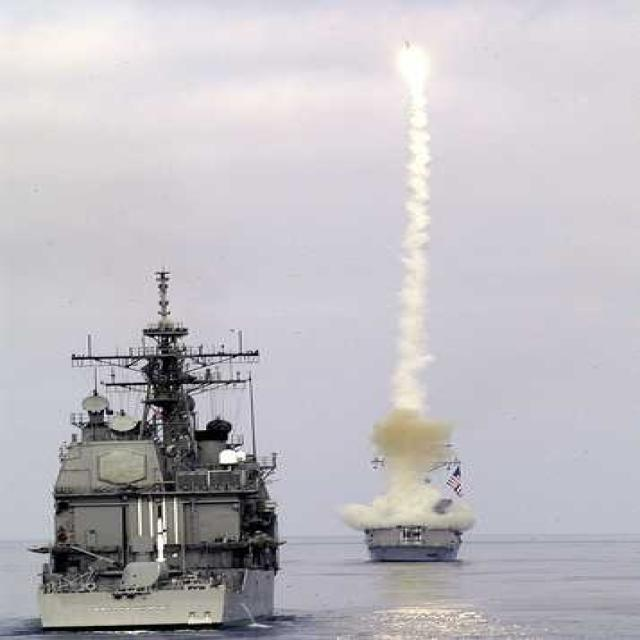missile: (401, 36, 415, 51)
